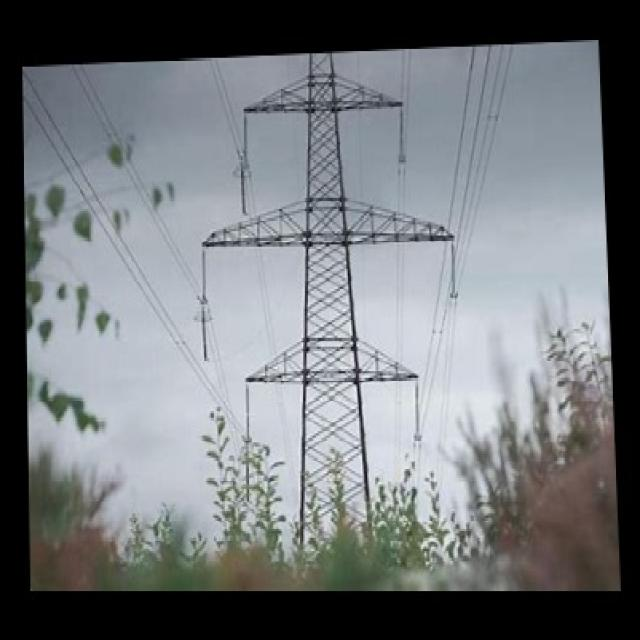utility poles: (192, 351, 474, 578)
